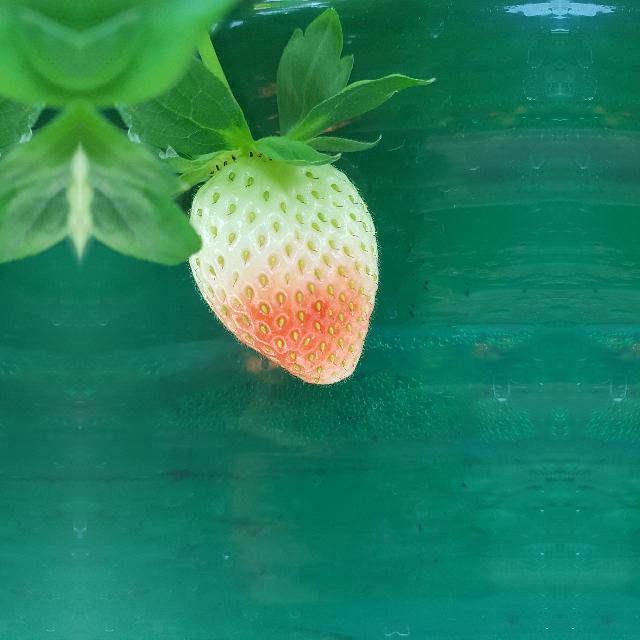Health_50: (186, 152, 382, 386)
